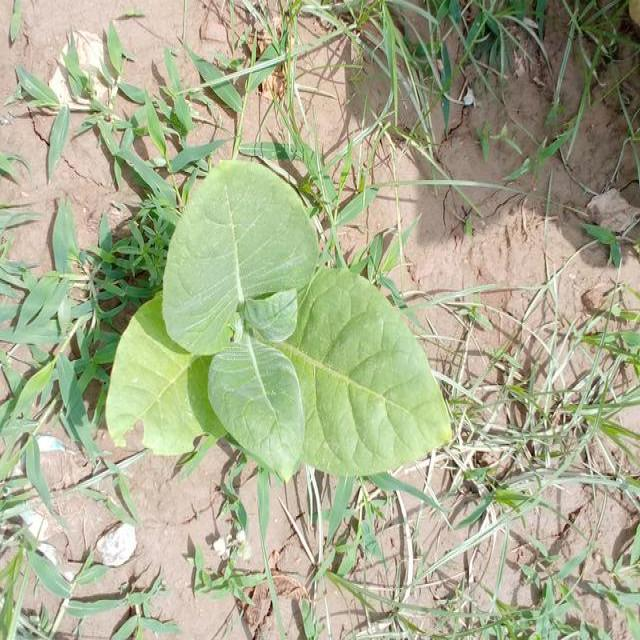crop: (118, 174, 448, 482)
